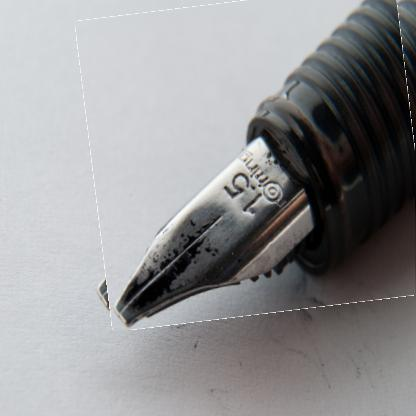Pen: (84, 0, 415, 323)
